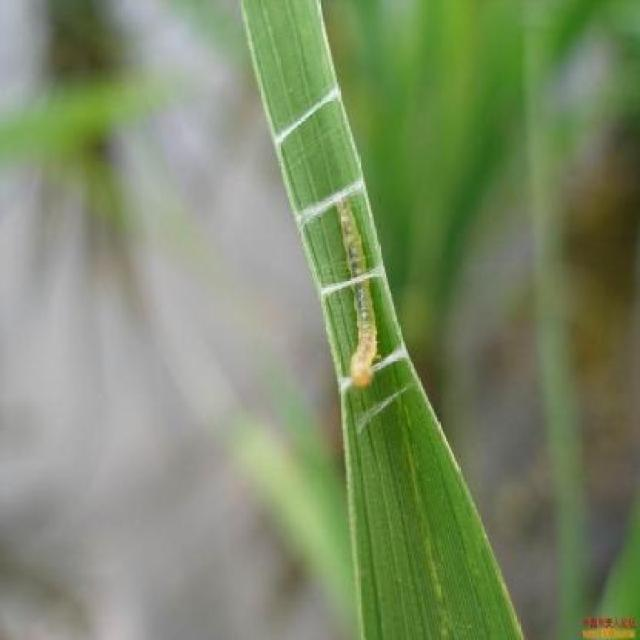leaf-folder: (319, 183, 390, 409)
